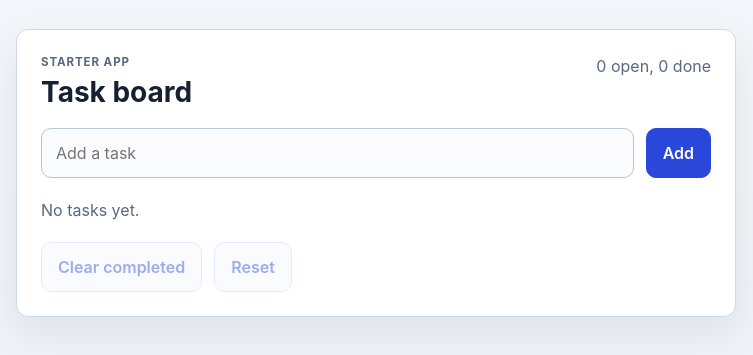
Test: task workflow adds and persists a trimmed task
The width and height of the screenshot is (753, 355).
Type " Write browser test " into the field named "Task title" at {"x": 337, "y": 153}, box 41,128 -> 634,178
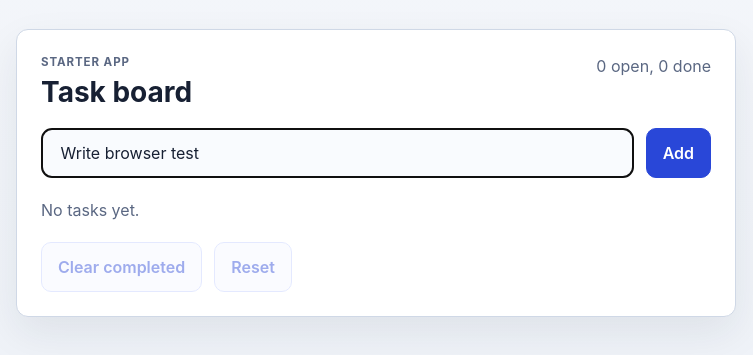
Click the button "Add" at {"x": 678, "y": 153}, box 646,128 -> 711,178
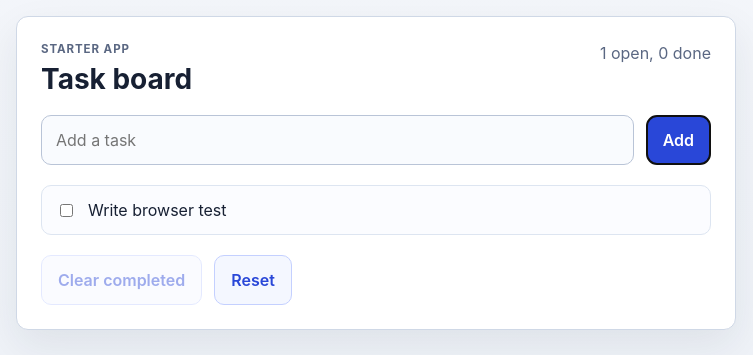
expect the text "Write browser test" is shown: met, box 88,198 -> 226,222
expect the text "1 open, 0 done" is shown: met, box 600,41 -> 711,65
expect the field named "Task title" is empty: met, box 41,115 -> 634,165
